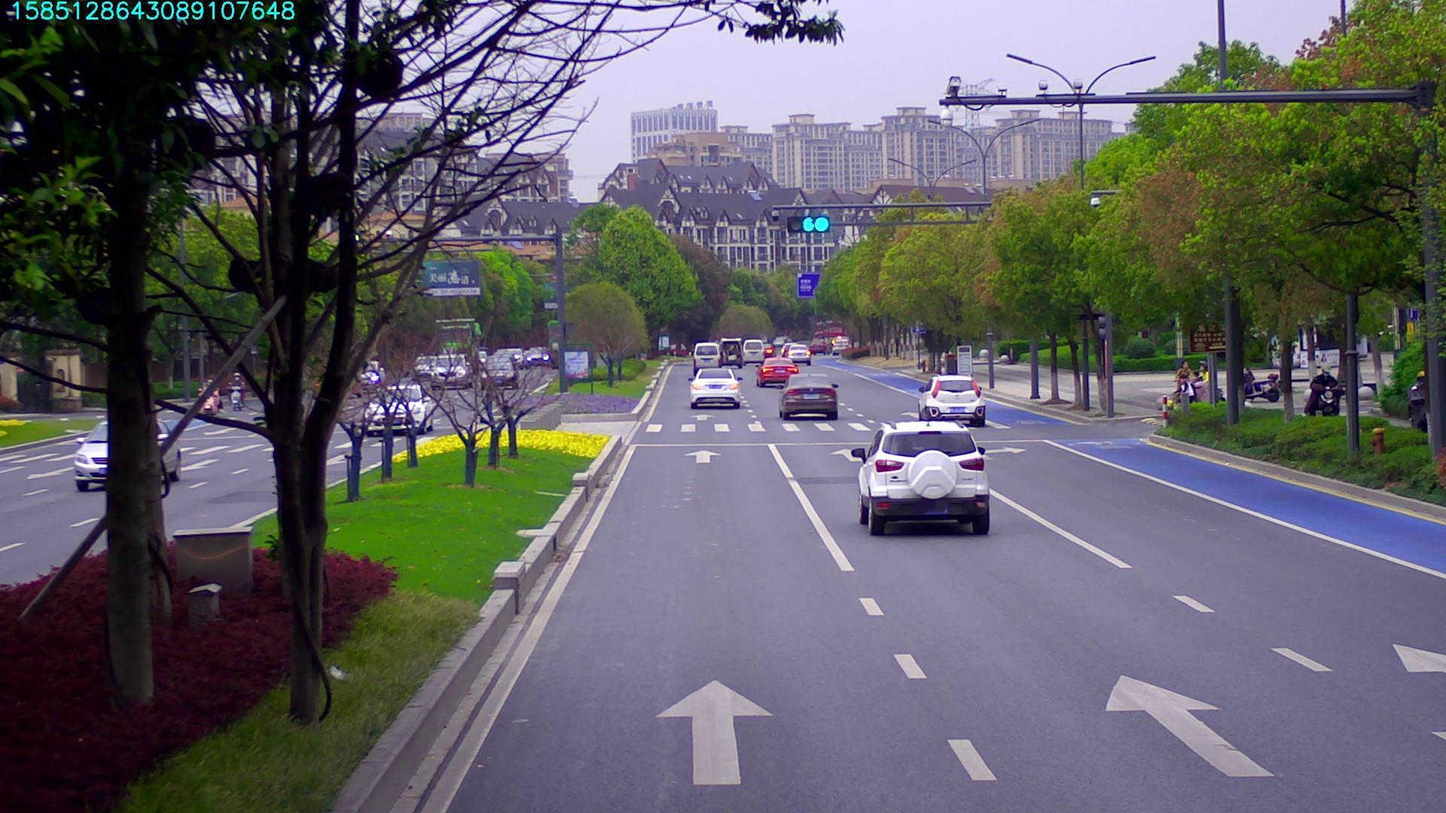green: (782, 217, 831, 235)
